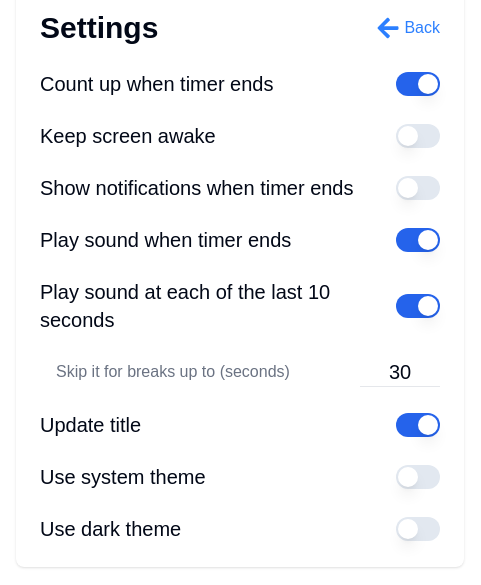
Test: clearing the minimum break length falls back to zero on blur
Clear the number field labelled "Skip it for breaks up to (seconds)": (400, 372) top-left (360, 358), bottom-right (440, 386)
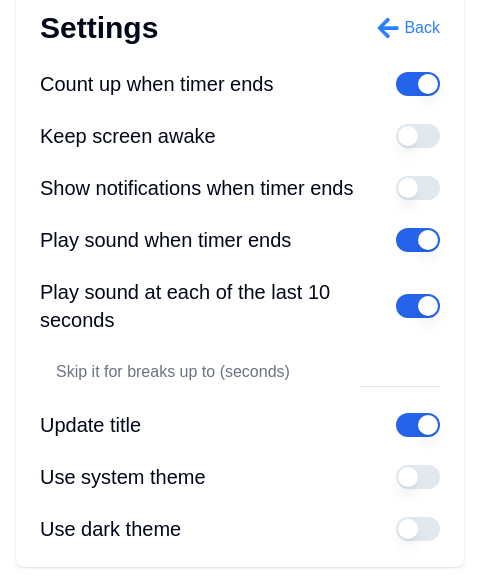
Leave the number field labelled "Skip it for breaks up to (seconds)", box top-left (360, 358), bottom-right (440, 386)
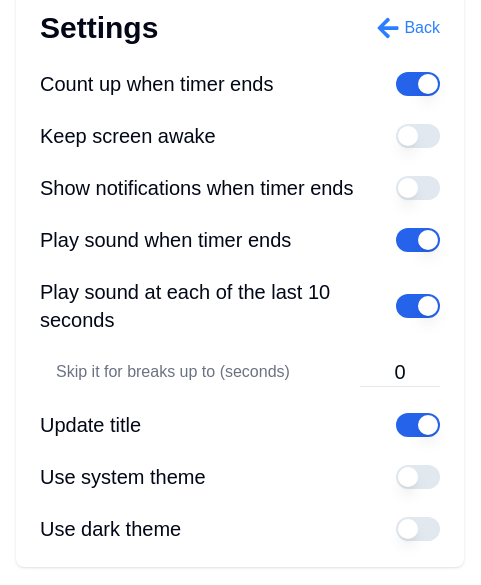
Check: the number field labelled "Skip it for breaks up to (seconds)" holds "0", box top-left (360, 358), bottom-right (440, 386)
